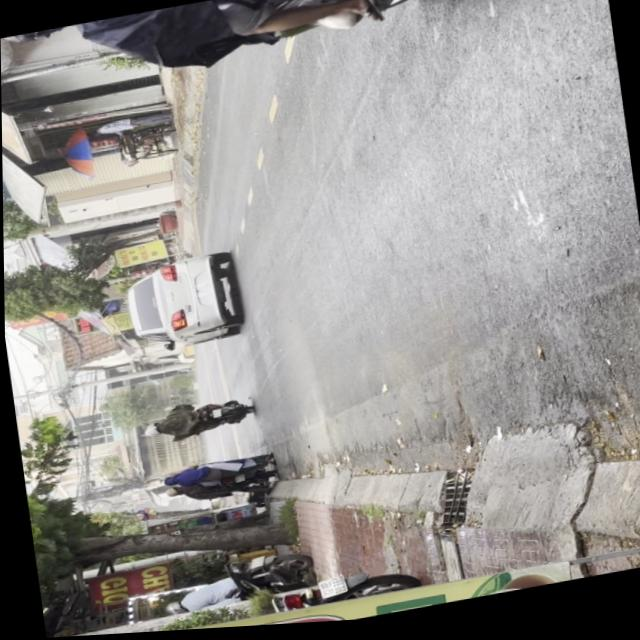helmet: (0, 25, 72, 46)
licenseplate: (0, 0, 482, 103), (131, 559, 426, 634)
nohelmet: (314, 577, 344, 601)
